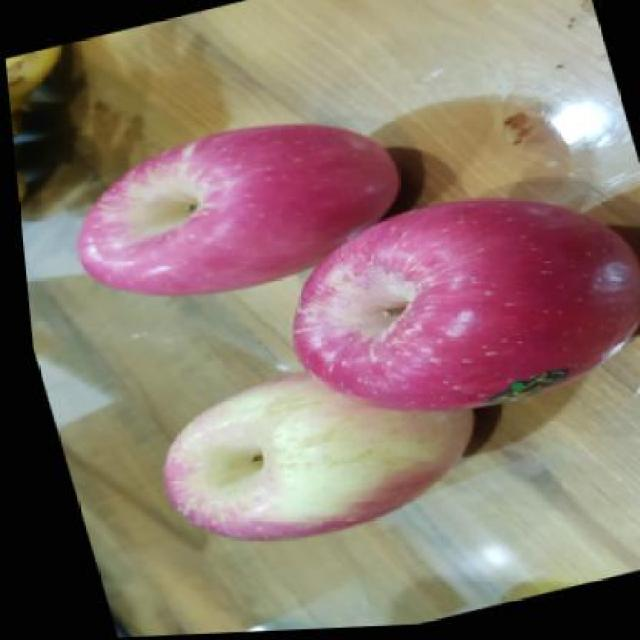Fresh Apple: (304, 218, 616, 396), (91, 130, 388, 289), (174, 386, 482, 537)
